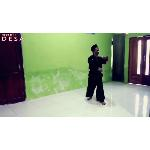Celurit: (93, 50, 109, 64)
